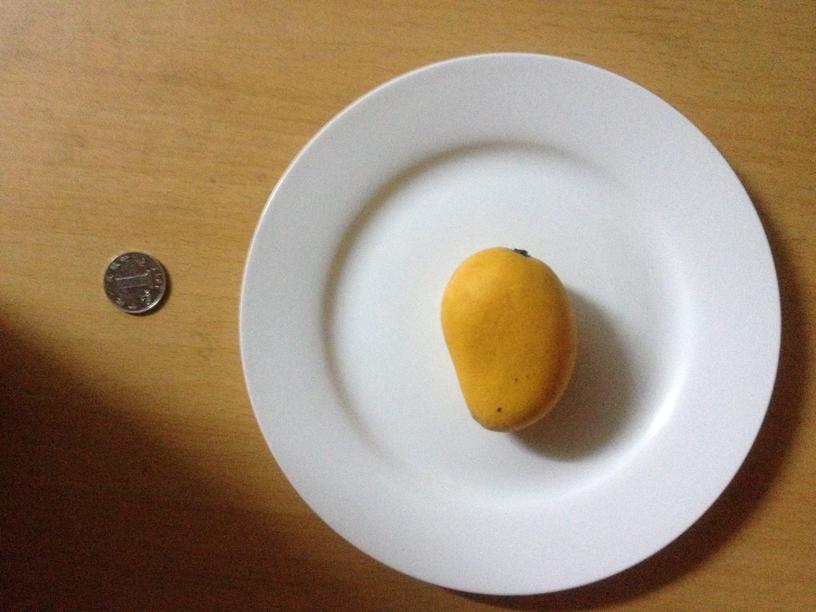coin: (104, 250, 168, 315)
mango: (443, 246, 577, 433)
